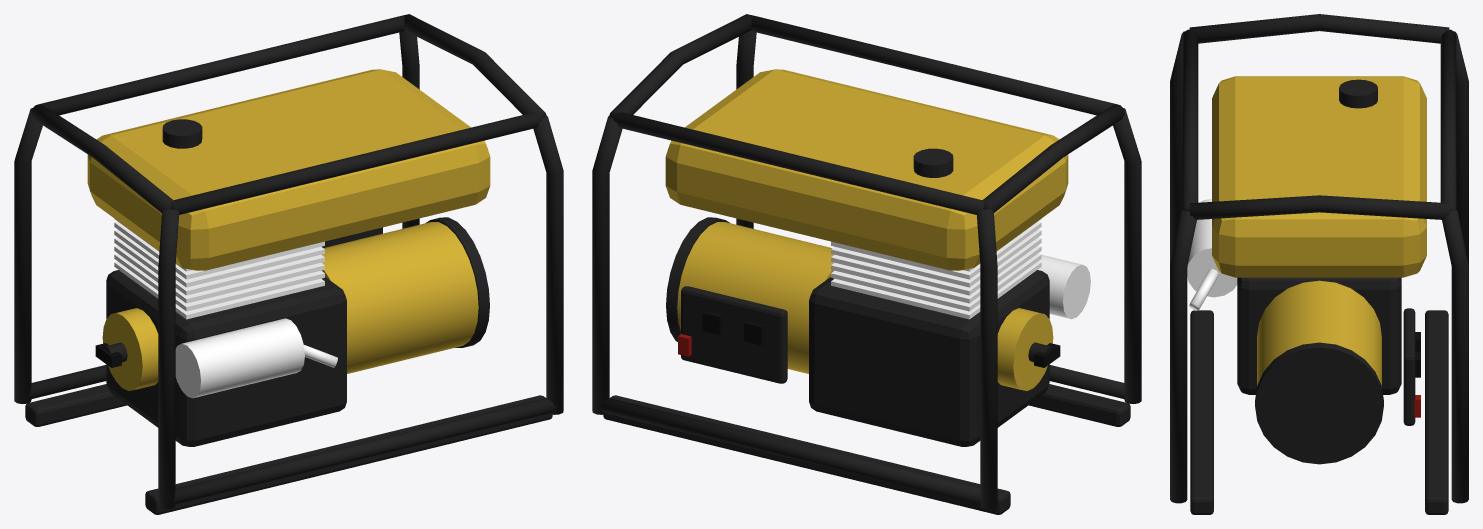
File: generator.glb
The picture shows the model from 3 angles, left to right: view 1: azimuth 30°, elevation 25°; view 2: azimuth 150°, elevation 25°; view 3: azimuth 270°, elevation 25°; orthographic projection. The views are drawn at different scales.
Visible parts, largest first — view 1: generator_mesh; view 2: generator_mesh; view 3: generator_mesh.
Boxes of the visible parts, <box> form: generator_mesh: <box>14,14,563,514</box>; generator_mesh: <box>592,14,1141,514</box>; generator_mesh: <box>1170,14,1468,514</box>.
Size of the model in its own units: 1.16 by 0.8909 by 0.764.
